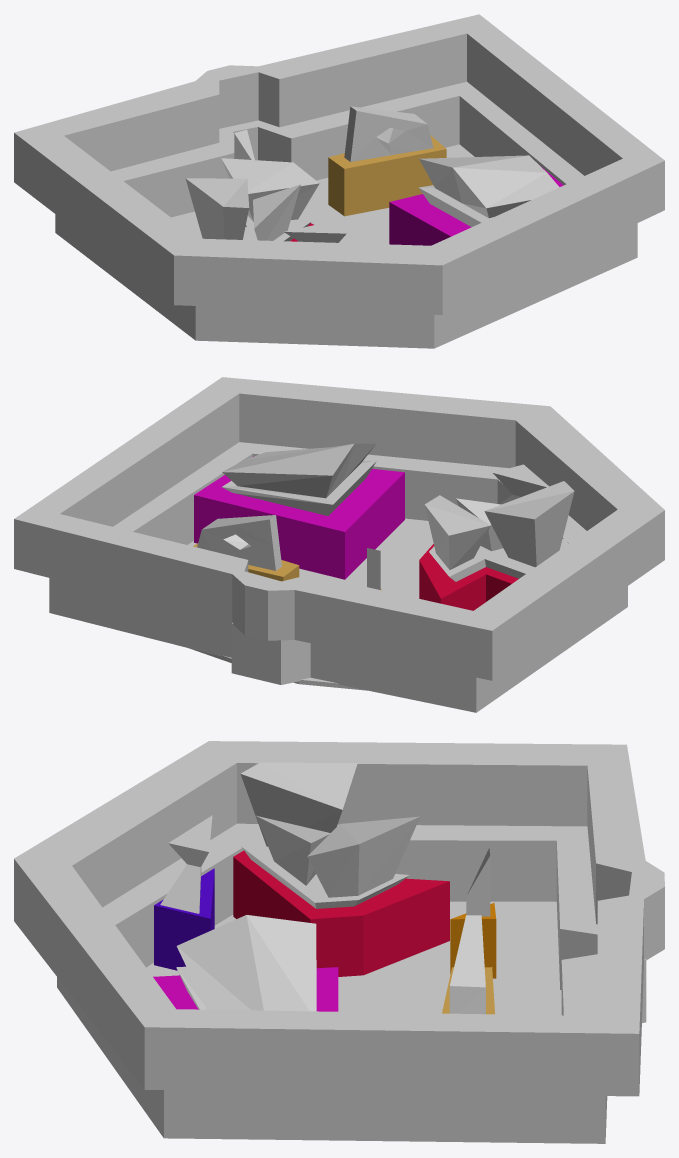
Rendered from level2_1.fbx.
3 renders of one model, top to bottom at view 1: azimuth 30°, elevation 25°; view 2: azimuth 150°, elevation 25°; view 3: azimuth 270°, elevation 25°, orthographic. The views are drawn at different scales.
Visible parts, largest first — view 1: 2-1_upper_wall, 2-1_lower_wall, 2-1_pillar_red_top, 2-1_pillar_magenta_top, 2-1_pillar_yellow, 2-1_pillar_yellow_top, 2-1_floor, 2-1_pillar_magenta, 2-1_pillar_purple_top, 2-1_pillar_orange_top; view 2: 2-1_upper_wall, 2-1_lower_wall, 2-1_pillar_magenta, 2-1_pillar_red_top, 2-1_pillar_magenta_top, 2-1_floor, 2-1_pillar_yellow_top, 2-1_pillar_red, 2-1_pillar_purple_top, 2-1_pillar_yellow, 2-1_pillar_orange_top; view 3: 2-1_upper_wall, 2-1_lower_wall, 2-1_pillar_red_top, 2-1_floor, 2-1_pillar_red, 2-1_pillar_magenta_top, 2-1_pillar_purple, 2-1_pillar_yellow_top, 2-1_pillar_purple_top, 2-1_pillar_magenta, 2-1_pillar_orange, 2-1_pillar_orange_top (+1 smaller).
Boxes of the visible parts, x1,y1,x2,y2 form: 2-1_upper_wall: (14, 14, 664, 314); 2-1_lower_wall: (55, 81, 637, 348); 2-1_pillar_red_top: (185, 158, 319, 241); 2-1_pillar_magenta_top: (418, 155, 559, 226); 2-1_pillar_yellow: (328, 135, 446, 216); 2-1_pillar_yellow_top: (344, 106, 433, 161); 2-1_floor: (171, 144, 474, 244); 2-1_pillar_magenta: (389, 166, 563, 245); 2-1_pillar_purple_top: (284, 218, 346, 242); 2-1_pillar_orange_top: (234, 129, 254, 159); 2-1_upper_wall: (14, 377, 664, 680); 2-1_lower_wall: (49, 442, 627, 712); 2-1_pillar_magenta: (194, 456, 404, 579); 2-1_pillar_red_top: (424, 481, 574, 581); 2-1_pillar_magenta_top: (222, 443, 376, 515); 2-1_floor: (188, 518, 433, 690); 2-1_pillar_yellow_top: (197, 515, 281, 570); 2-1_pillar_red: (419, 544, 518, 610); 2-1_pillar_purple_top: (493, 464, 548, 504); 2-1_pillar_yellow: (193, 543, 299, 581); 2-1_pillar_orange_top: (367, 548, 380, 589); 2-1_upper_wall: (14, 741, 664, 1096); 2-1_lower_wall: (57, 823, 646, 1143); 2-1_pillar_red_top: (240, 762, 419, 908); 2-1_floor: (146, 901, 561, 1015); 2-1_pillar_red: (233, 850, 449, 976); 2-1_pillar_magenta_top: (176, 915, 316, 1011); 2-1_pillar_purple: (154, 868, 214, 970); 2-1_pillar_yellow_top: (449, 915, 485, 1014); 2-1_pillar_purple_top: (160, 815, 212, 913); 2-1_pillar_magenta: (153, 967, 338, 1011); 2-1_pillar_orange: (450, 903, 496, 978); 2-1_pillar_orange_top: (466, 848, 490, 916).
Size of the model in its own units: 21.05 by 4.98 by 19.78.
